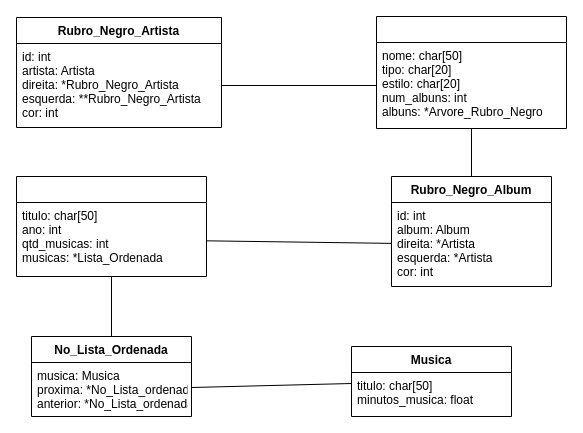
Image size: 583x433. Some labels were removed from this diagram. The box of each missing label's shape, as (x1, y1, x2, y2) in pixels:
Album: (16, 176, 206, 276)
Artista: (376, 16, 566, 128)
